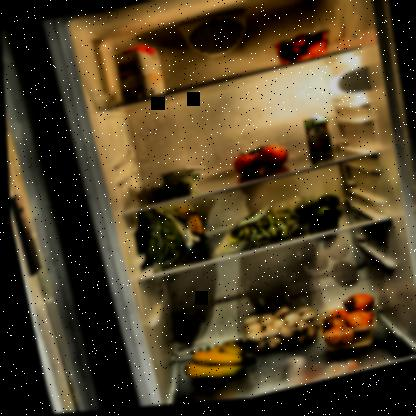banana: (175, 337, 254, 390)
blueberries: (128, 175, 196, 211)
green_beans: (211, 203, 302, 257)
heavy_cream: (299, 116, 334, 167)
lime: (282, 196, 341, 236)
mushrooms: (234, 300, 321, 359)
onion: (308, 295, 380, 360)
spinach: (129, 197, 210, 274)
strawberries: (269, 30, 335, 72)
tomato: (226, 143, 292, 184)
